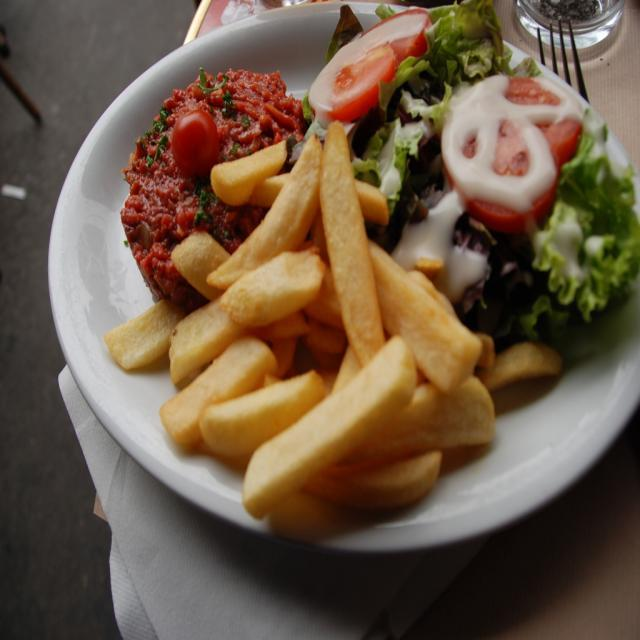French fries: (104, 118, 564, 513)
